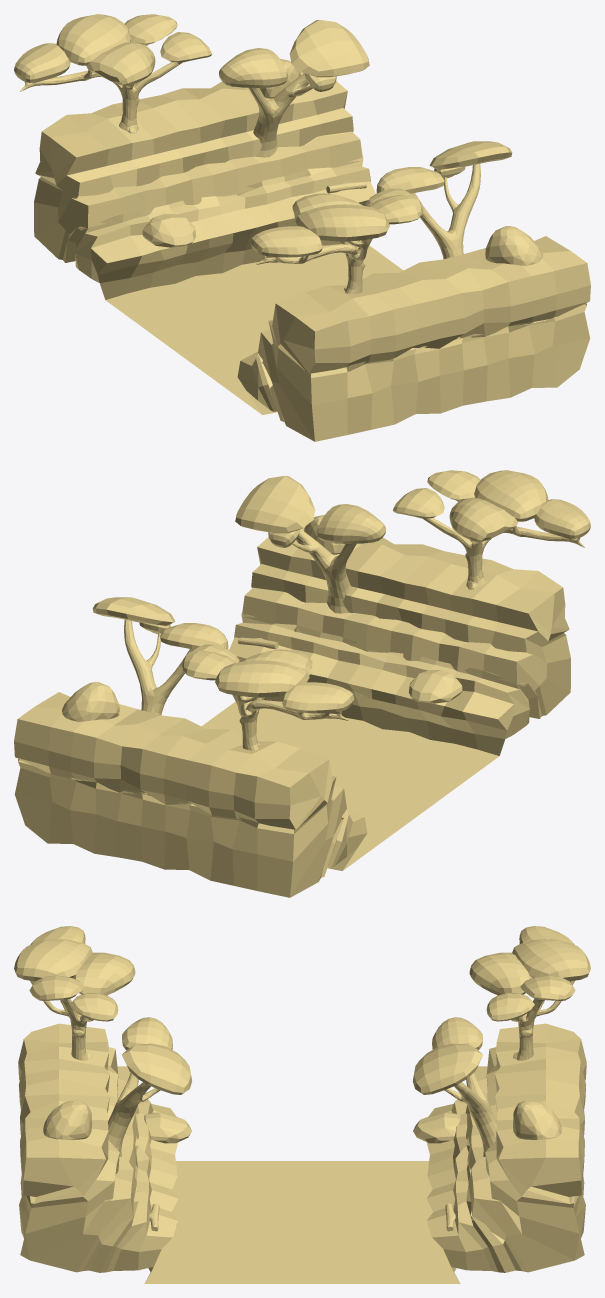
File: brownravine1.fbx
3 views of the same model, one above another, from view 1: azimuth 30°, elevation 25°; view 2: azimuth 150°, elevation 25°; view 3: azimuth 270°, elevation 25° (orthographic).
Parts seen in each view (by area): view 1: brownravine1; view 2: brownravine1; view 3: brownravine1.
Boxes of the visible parts, <box> form: brownravine1: <box>14,14,590,441</box>; brownravine1: <box>14,470,590,897</box>; brownravine1: <box>14,926,590,1283</box>.
Bounding box in the file's own units: 1553 × 1082 × 2453.
